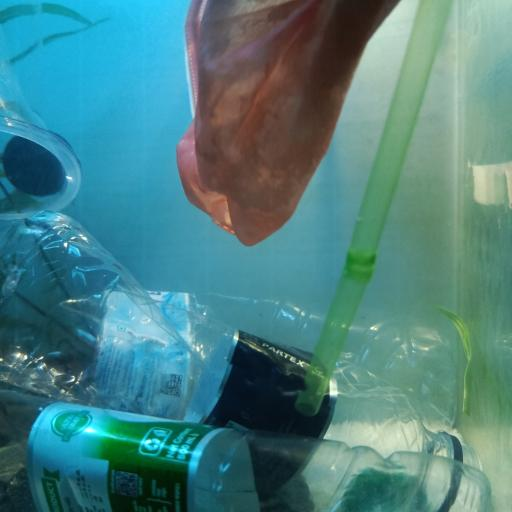bottle_cap: (3, 132, 69, 196)
mask: (175, 0, 401, 250)
plastic_bottle: (0, 210, 479, 512), (0, 290, 473, 424), (0, 386, 489, 512)
plastic_cup: (0, 29, 81, 213)
plastic_straw: (296, 0, 461, 414)
